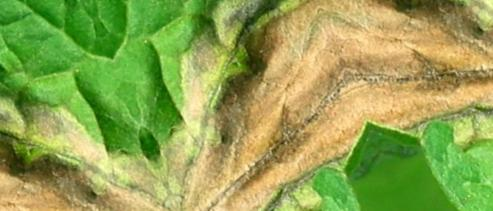Tomato leaf late blight: (53, 0, 440, 211)
